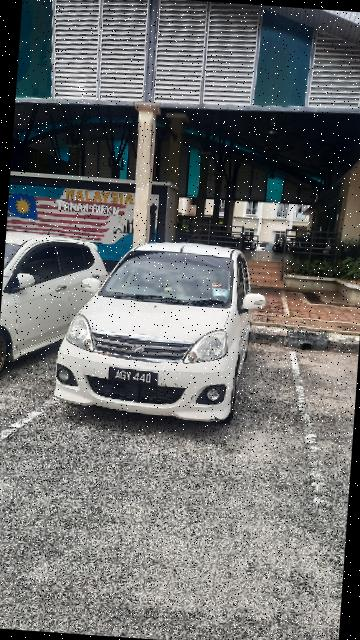License_Plate: (107, 366, 161, 391)
car: (52, 234, 272, 434)
